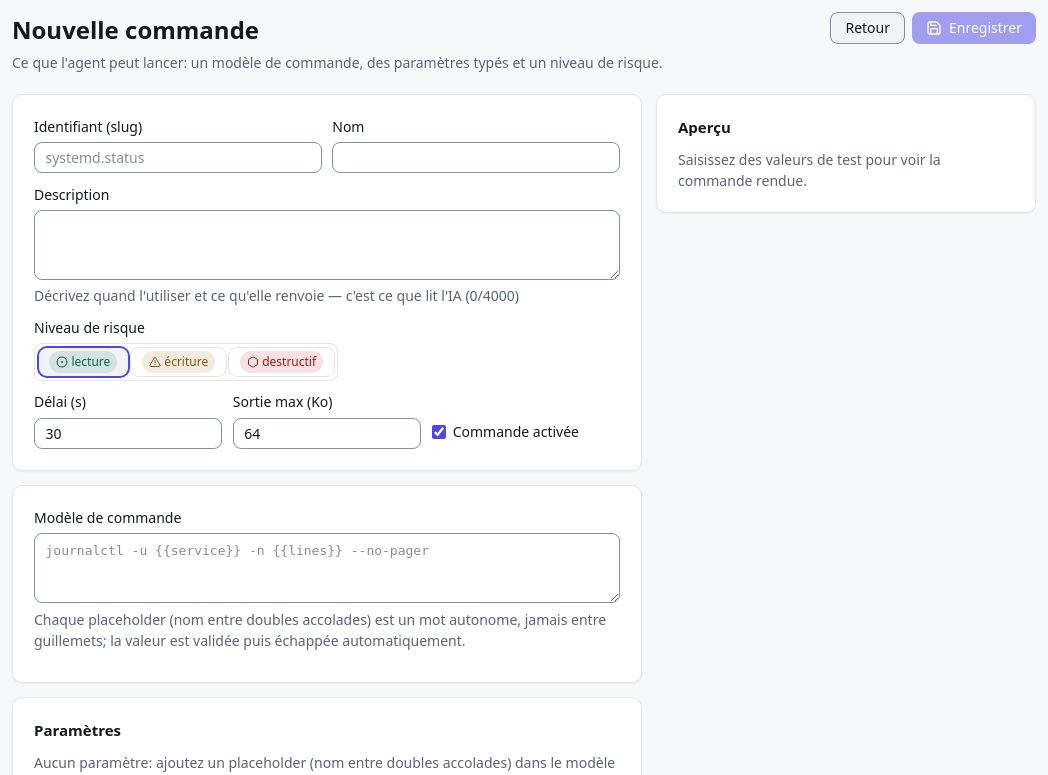
Test case: éditeur de commande › détecte les placeholders, affiche le lint et l'aperçu avec échappement
Click the text box labelled "Modèle de commande": x=327, y=568 [34, 533, 620, 603]
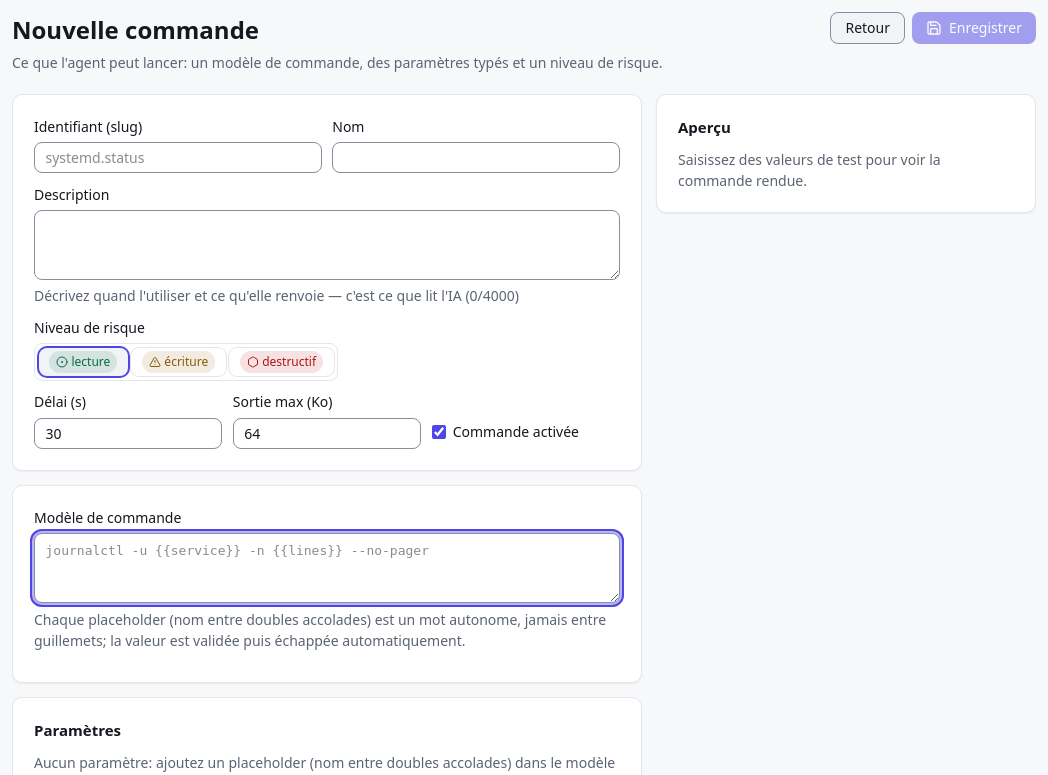
Type keys "systemctl status {{service}} | head"
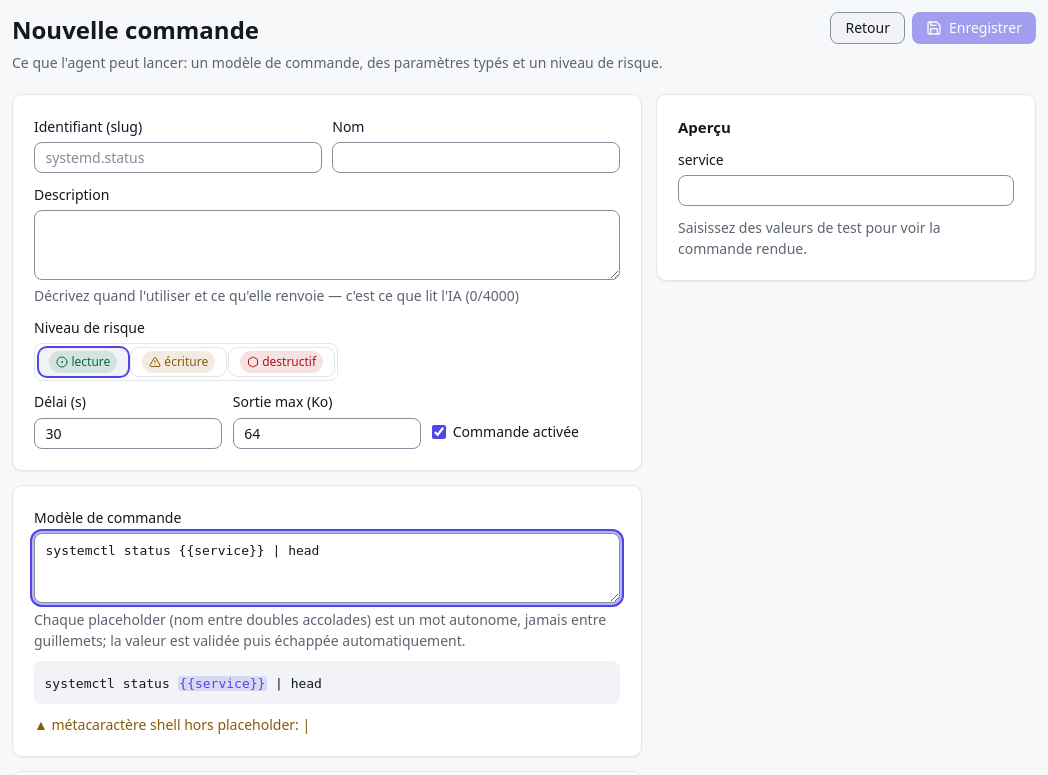
Check: the text "▲ métacaractère shell hors placeholder: |" is shown, box [34, 715, 310, 734]
Check: the element with test id "highlighted" shows "{{service}}", box [179, 676, 265, 690]
In the field labelled "service": x=846, y=191 [678, 175, 1014, 206], type "nginx"
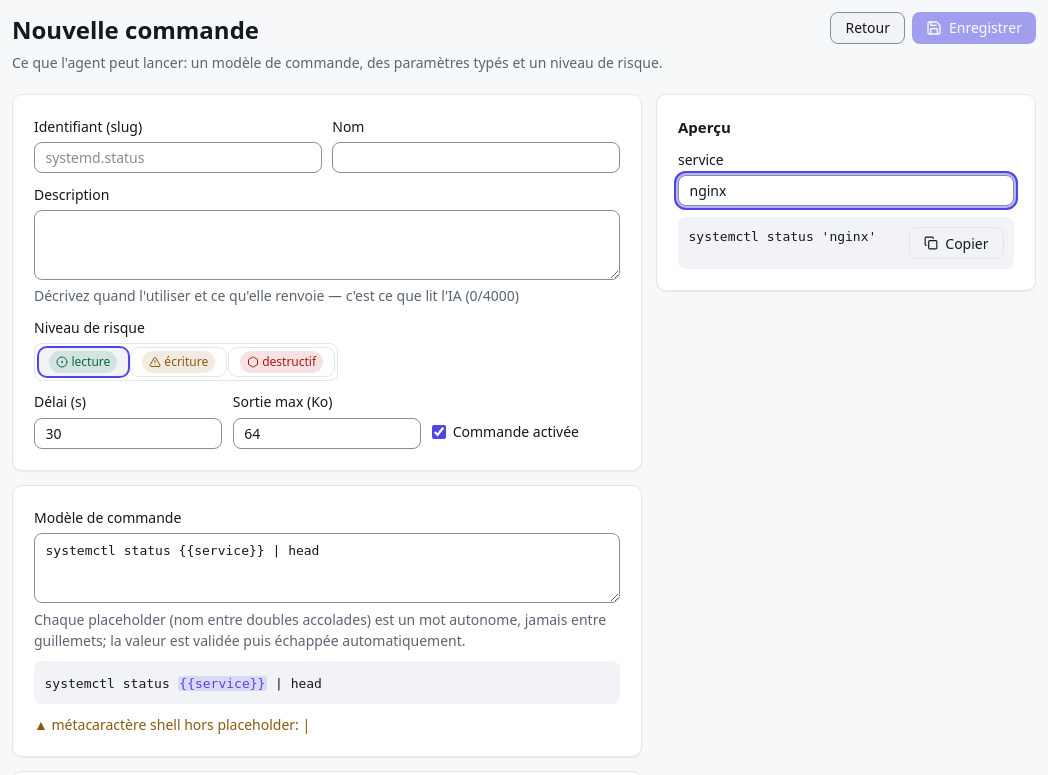
Check: the text "systemctl status 'nginx'" is shown, box [688, 227, 902, 247]
